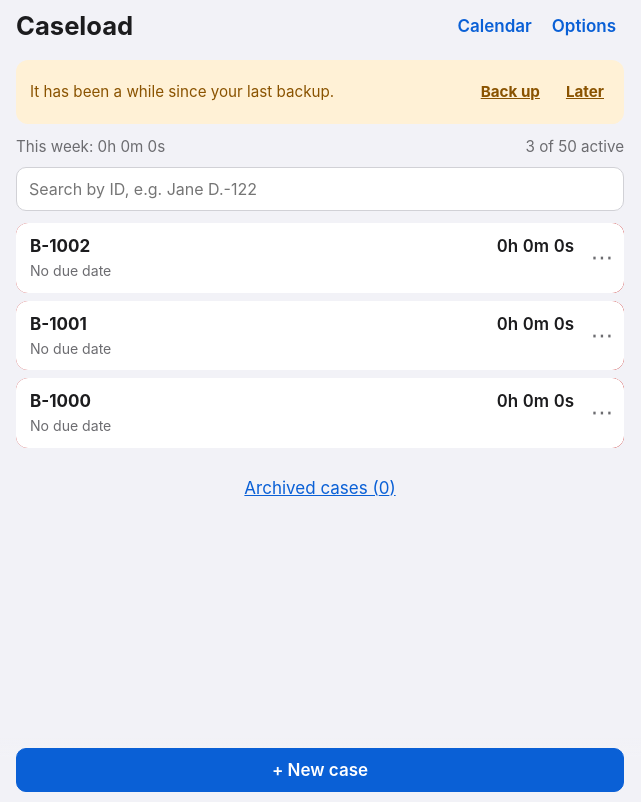
Test case: search narrows the list, ignoring dots and dashes
In the search field named "Search cases by ID": [320, 189] box x1=16 y1=167 x2=624 y2=211, type "b1001"
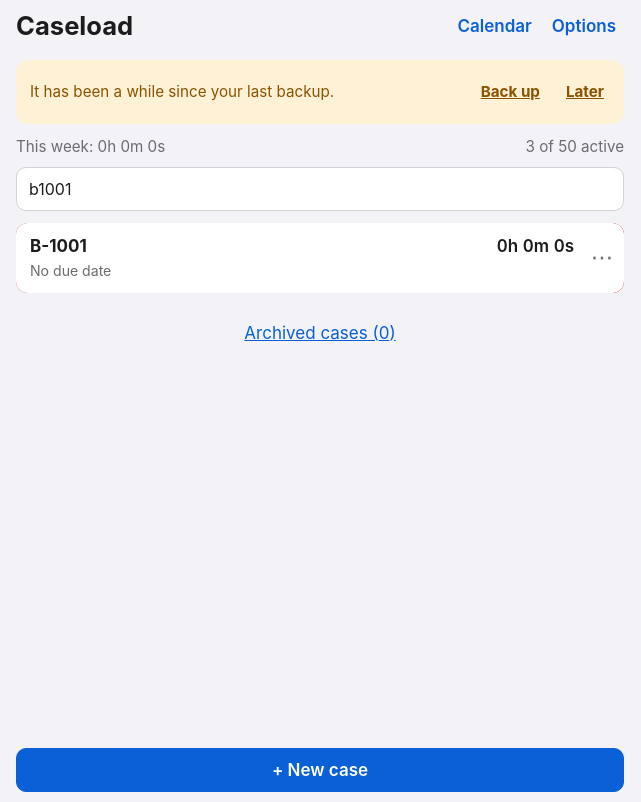
Expected: the text "B-1001" is shown, x1=30 y1=236 x2=87 y2=256
Now the link "B-1000" is gone
Replace the text in the search field named "Search cases by ID" with "zzz": [320, 189] box x1=16 y1=167 x2=624 y2=211
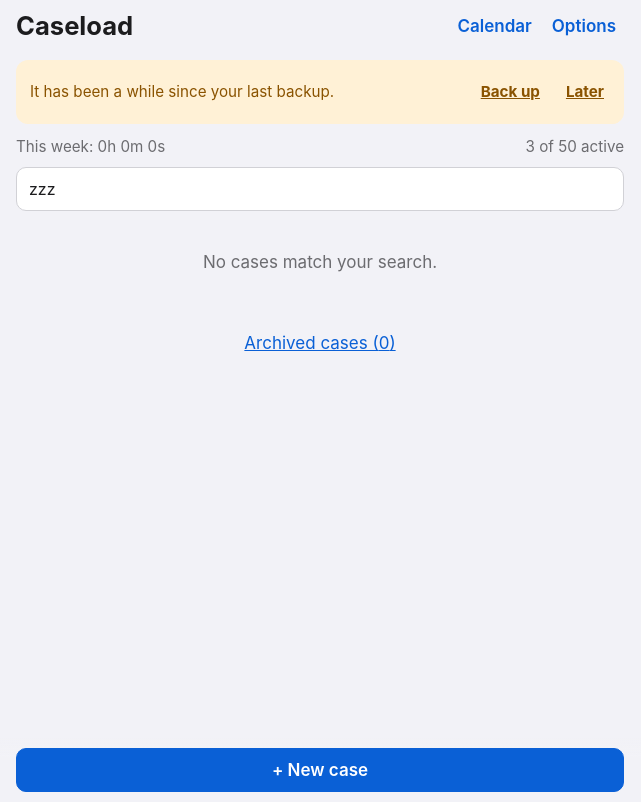
Now the text "No cases match your search." is shown, box x1=203 y1=252 x2=437 y2=272
